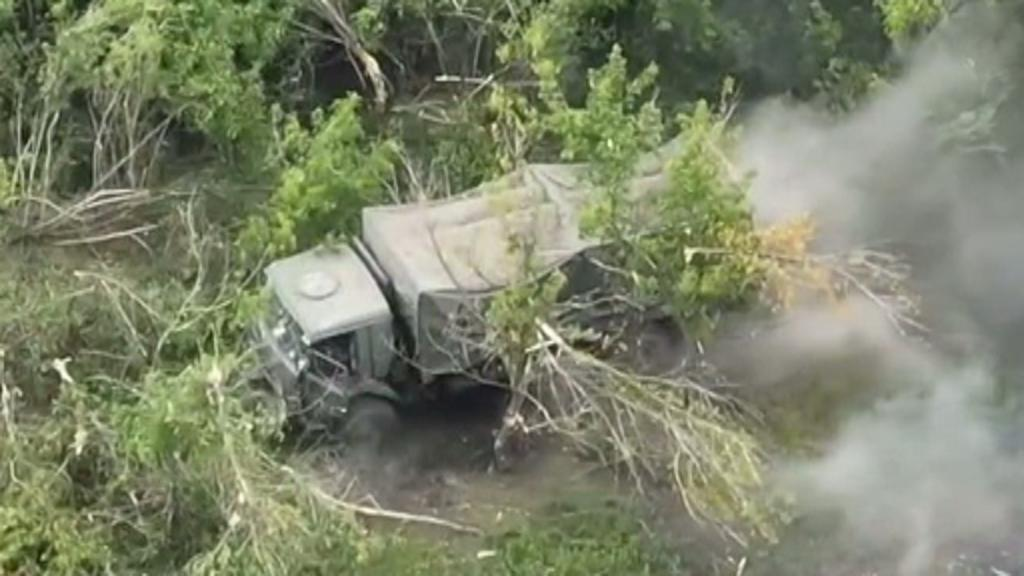TRUCK: (248, 124, 756, 450)
